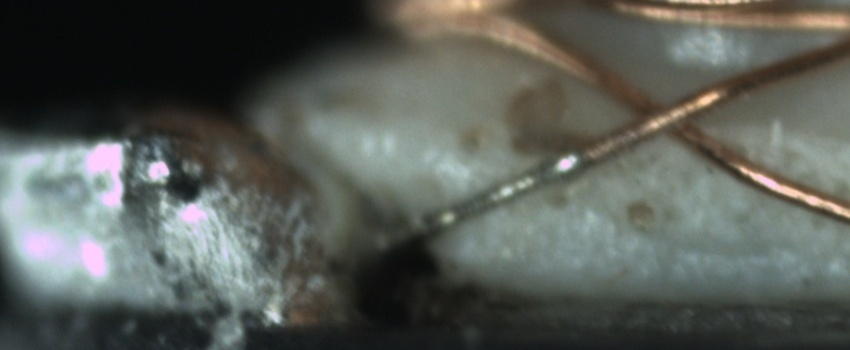CL: (617, 81, 719, 151)
TS: (376, 150, 588, 255)
TTCW: (368, 124, 629, 254)
